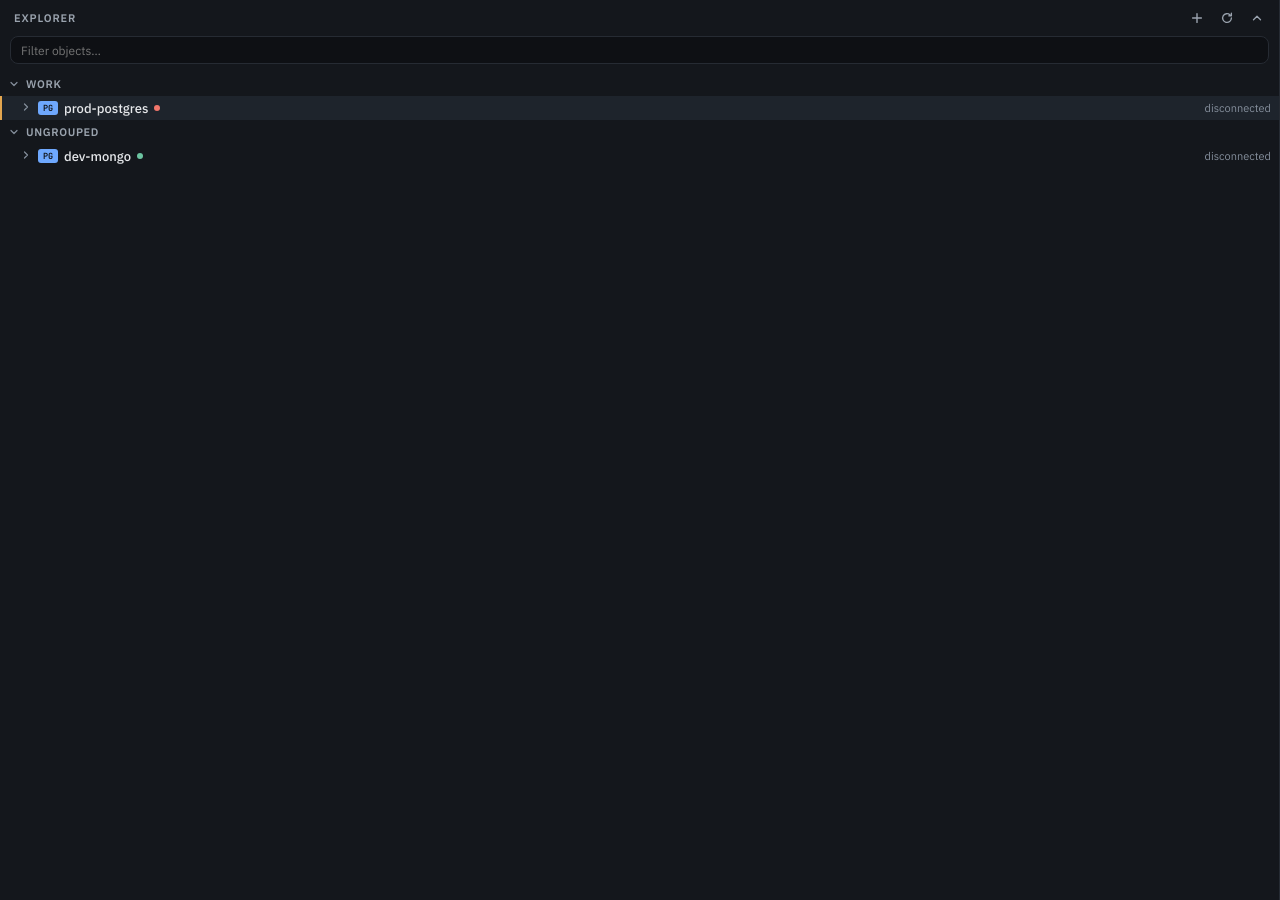
Test case: organising connections › groups connections and deleting a group asks first
Right-click the list item "Work".
right_click(35, 84)  # box x1=8 y1=77 x2=62 y2=91
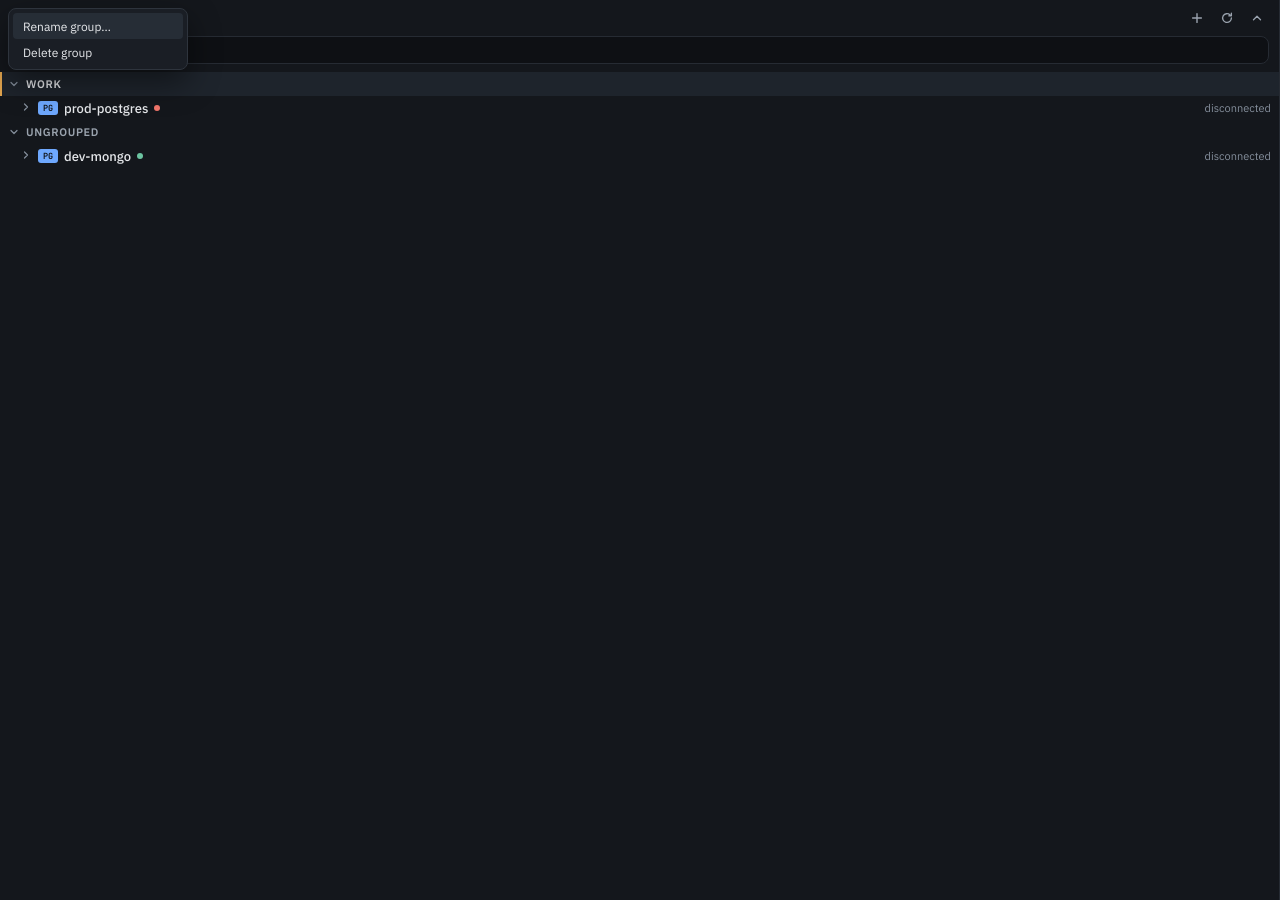
Click the menu item "Delete group".
click(98, 52)  # box x1=13 y1=39 x2=183 y2=65
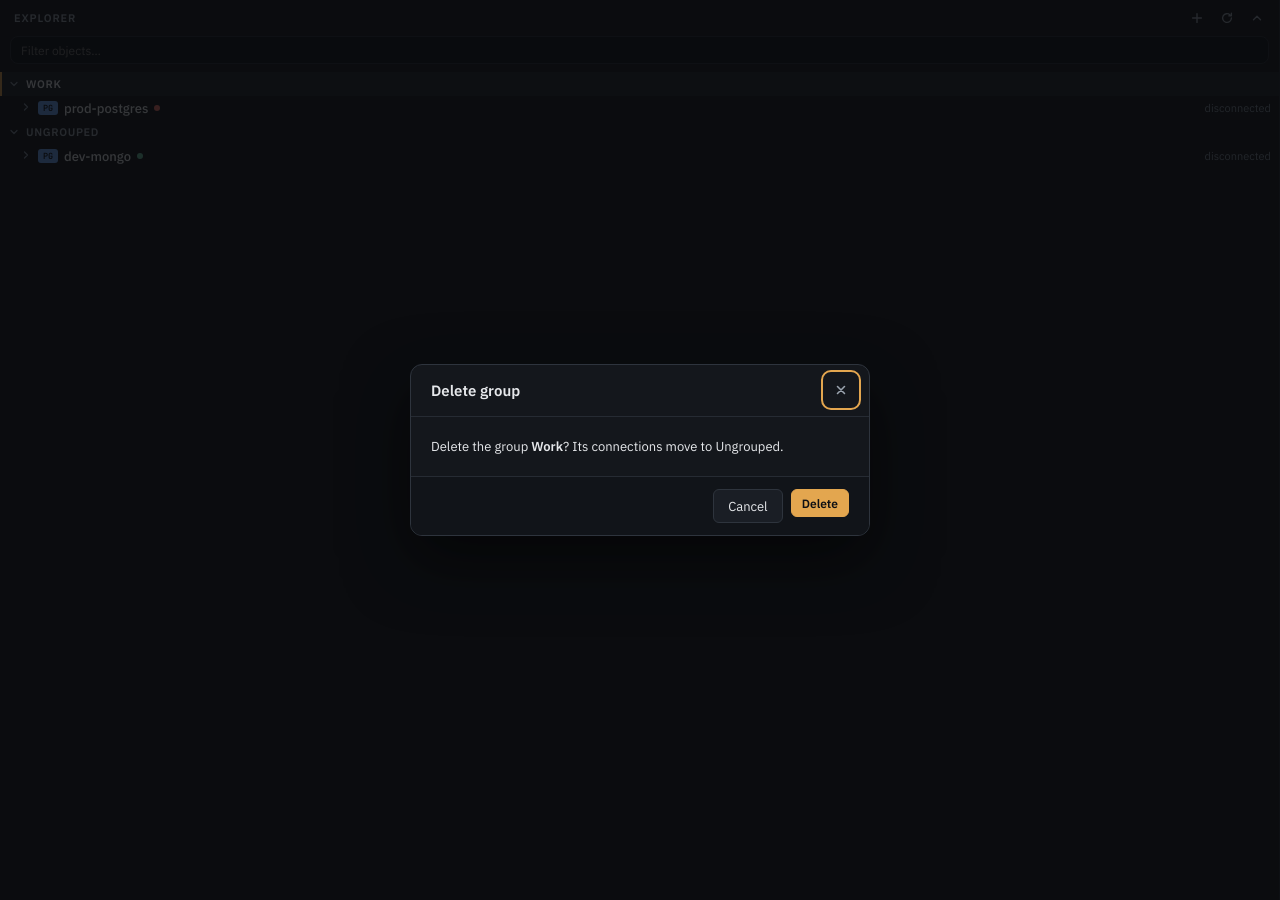
Check: the text "Delete the group Work? Its connections move to Ungrouped." is shown, box x1=431 y1=438 x2=784 y2=455
